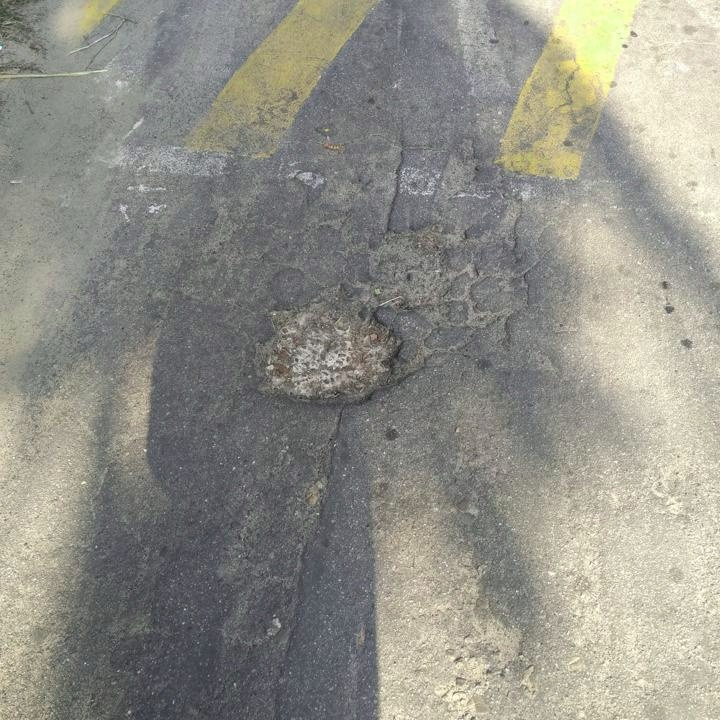pothole: (244, 294, 407, 410), (358, 220, 461, 309)
